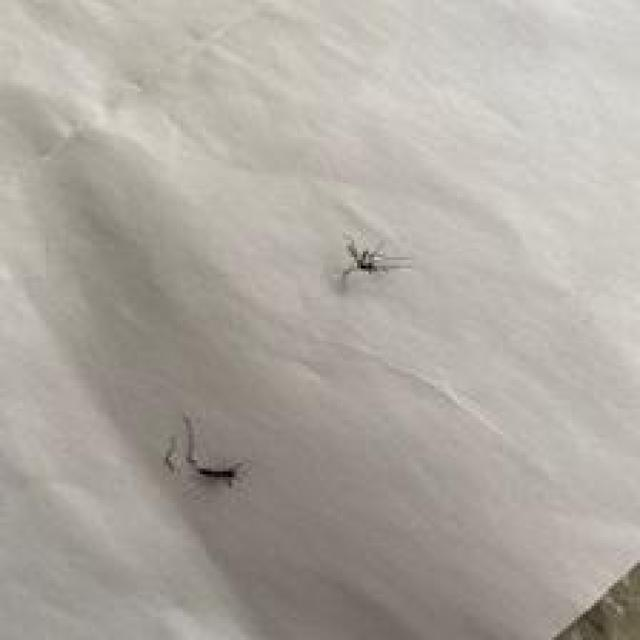Aedes albopictus: (340, 236, 411, 281)
